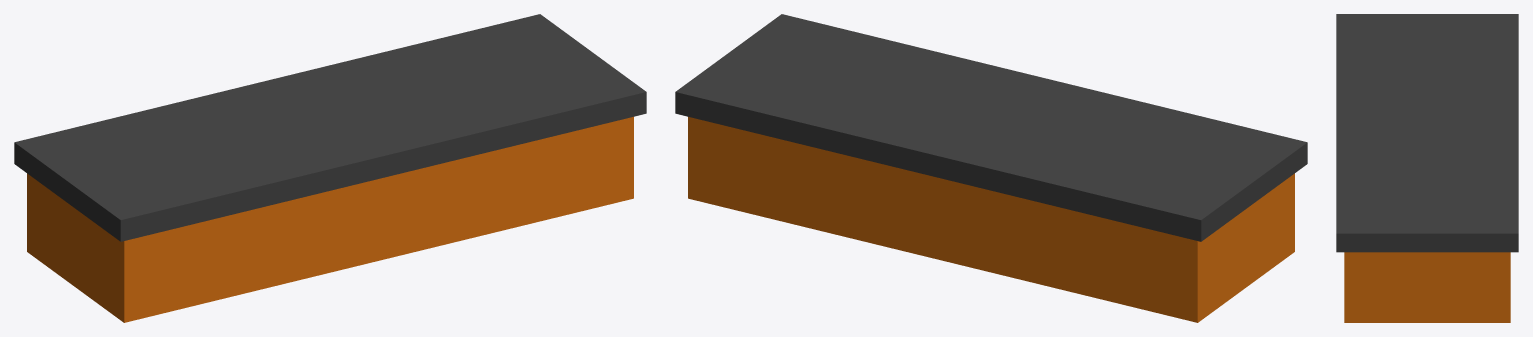
Rendered from desk.fbx.
3 renders of one model, left to right at view 1: azimuth 30°, elevation 25°; view 2: azimuth 150°, elevation 25°; view 3: azimuth 270°, elevation 25°, orthographic. The views are drawn at different scales.
Parts seen in each view (by area): view 1: Desk; view 2: Desk; view 3: Desk.
Boxes of the visible parts, bbox=[...] form: Desk: bbox=[14, 14, 646, 322]; Desk: bbox=[675, 14, 1307, 322]; Desk: bbox=[1336, 14, 1518, 322].
Size of the model in its own units: 1077 by 211 by 378.
